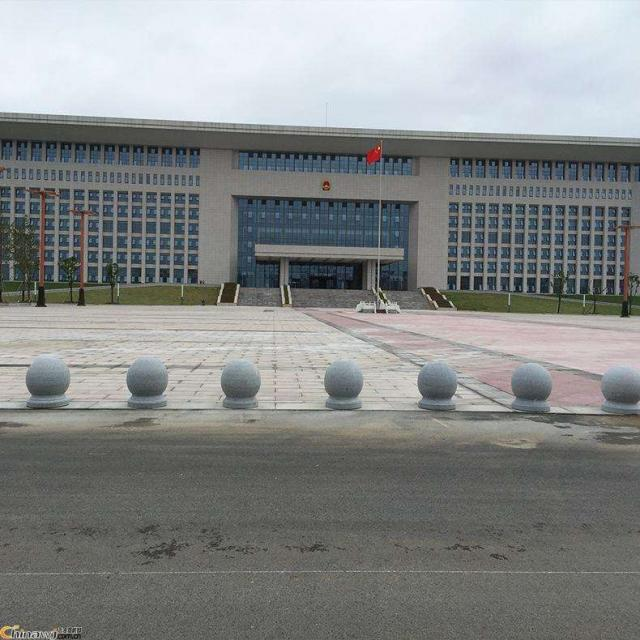pole: (36, 194, 47, 304), (77, 214, 85, 304)
spherical_roadblock: (23, 355, 72, 408), (124, 355, 169, 407), (414, 359, 458, 409), (508, 361, 552, 411), (322, 357, 363, 409), (219, 358, 260, 408), (599, 364, 639, 414)
